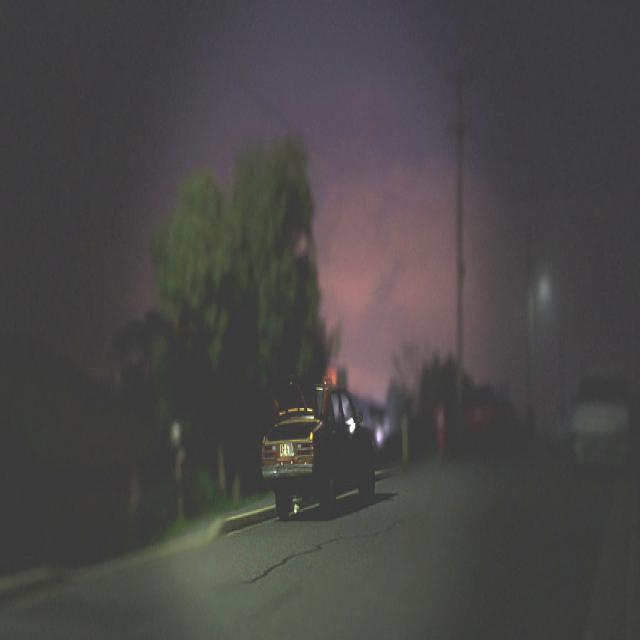Car: (259, 369, 376, 523)
